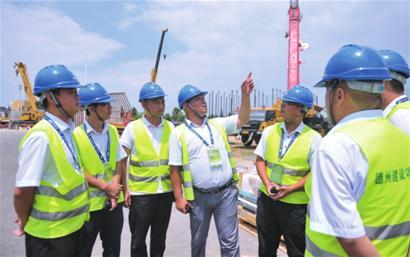helmet: (316, 46, 392, 86), (33, 66, 82, 93), (282, 86, 318, 111), (80, 82, 115, 107), (379, 53, 410, 78), (181, 87, 208, 112), (140, 83, 167, 101)
